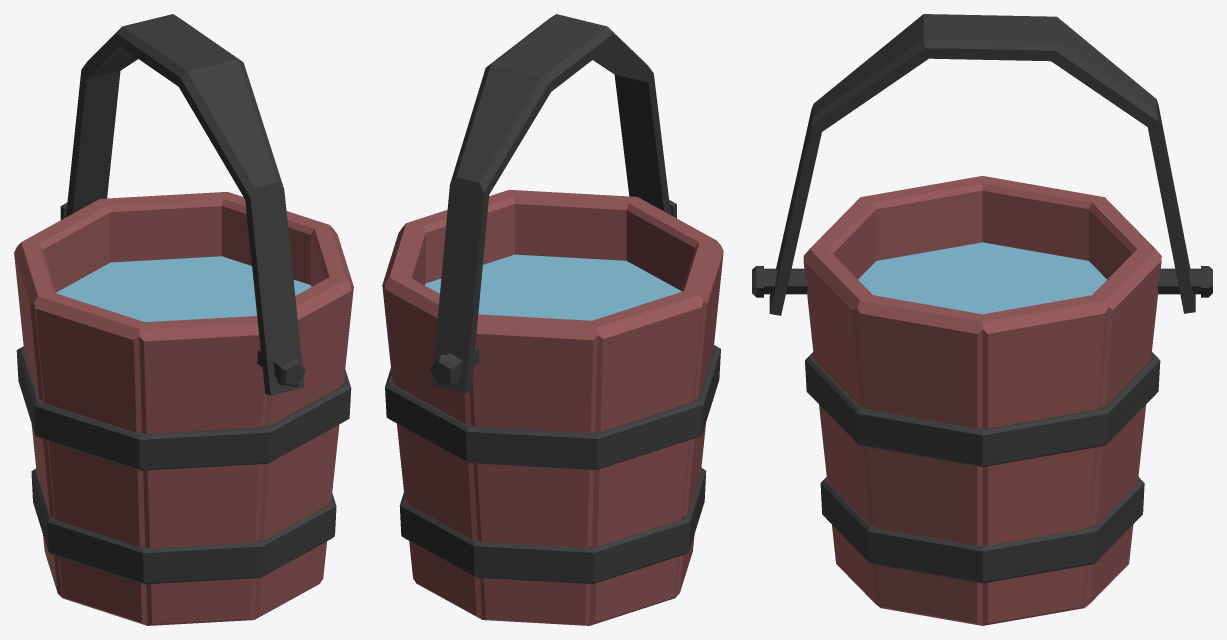
File: bucket_a001.glb
3 renders of one model, left to right at view 1: azimuth 30°, elevation 25°; view 2: azimuth 150°, elevation 25°; view 3: azimuth 270°, elevation 25°, orthographic. The views are drawn at different scales.
Parts seen in each view (by area): view 1: bucket_a001; view 2: bucket_a001; view 3: bucket_a001.
Boxes of the visible parts, left/top/right/bottom form: bucket_a001: left=14, top=14, right=353, bottom=625; bucket_a001: left=382, top=14, right=723, bottom=625; bucket_a001: left=752, top=14, right=1212, bottom=625.
Bounding box in the file's own units: 0.2707 × 0.4489 × 0.3482.
Materials: 1 (1 with a texture image).
